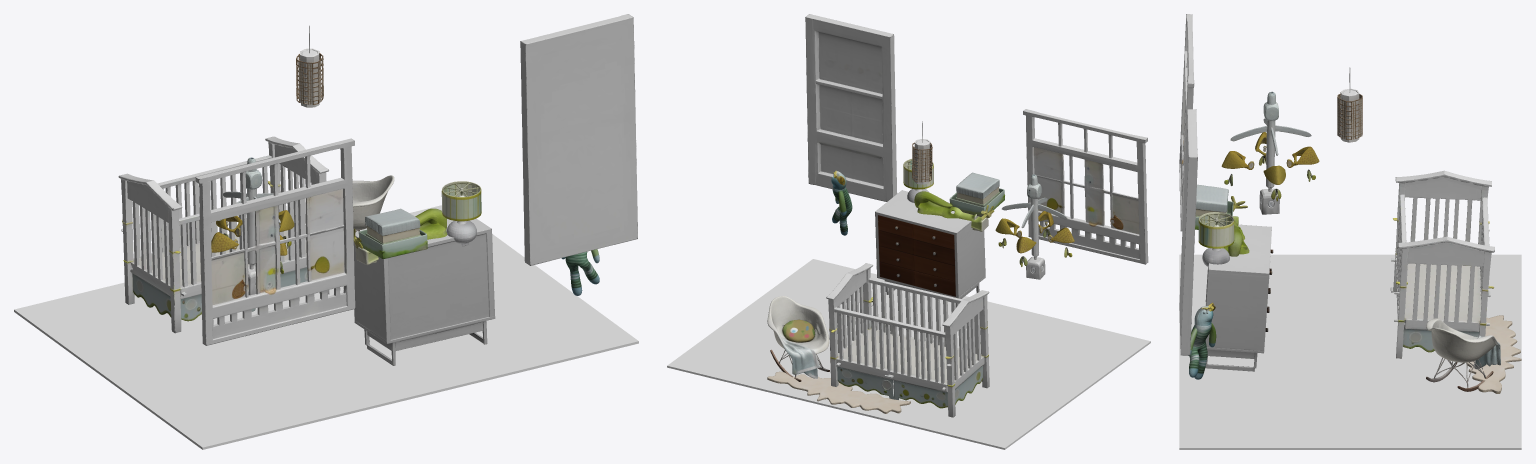
File: stage1.glb
3 renders of one model, left to right at view 1: azimuth 30°, elevation 25°; view 2: azimuth 150°, elevation 25°; view 3: azimuth 270°, elevation 25°, orthographic. The views are drawn at different scales.
Parts seen in each view (by area): view 1: floor, obj_14, obj_9, obj_5, obj_8, obj_15, obj_13, obj_3, obj_4, obj_1, obj_11, obj_7; view 2: floor, obj_5, obj_14, obj_9, obj_8, obj_1, obj_13, obj_2, obj_15, obj_11, obj_4, obj_7 (+1 smaller); view 3: floor, obj_5, obj_8, obj_13, obj_14, obj_1, obj_2, obj_3, obj_9, obj_7, obj_4, obj_15 (+1 smaller).
Boxes of the visible parts, left/top/right/bottom form: floor: left=14, top=205, right=638, bottom=449; obj_14: left=520, top=14, right=637, bottom=265; obj_9: left=195, top=138, right=355, bottom=345; obj_5: left=118, top=136, right=329, bottom=333; obj_8: left=353, top=218, right=495, bottom=365; obj_15: left=358, top=208, right=427, bottom=258; obj_13: left=211, top=157, right=294, bottom=295; obj_3: left=441, top=181, right=481, bottom=246; obj_4: left=296, top=25, right=323, bottom=107; obj_1: left=305, top=175, right=394, bottom=231; obj_11: left=353, top=208, right=447, bottom=265; obj_7: left=561, top=249, right=599, bottom=295; floor: left=667, top=259, right=1150, bottom=449; obj_5: left=826, top=263, right=989, bottom=417; obj_14: left=805, top=14, right=897, bottom=201; obj_9: left=1023, top=109, right=1148, bottom=264; obj_8: left=875, top=190, right=985, bottom=307; obj_1: left=767, top=296, right=829, bottom=381; obj_13: left=995, top=174, right=1074, bottom=279; obj_2: left=767, top=371, right=910, bottom=413; obj_15: left=949, top=172, right=1004, bottom=216; obj_11: left=914, top=191, right=994, bottom=231; obj_4: left=912, top=121, right=932, bottom=184; obj_7: left=831, top=170, right=852, bottom=235; floor: left=1179, top=254, right=1521, bottom=449; obj_5: left=1390, top=170, right=1494, bottom=358; obj_8: left=1205, top=224, right=1273, bottom=371; obj_13: left=1221, top=91, right=1319, bottom=214; obj_14: left=1179, top=109, right=1197, bottom=355; obj_1: left=1426, top=318, right=1500, bottom=391; obj_2: left=1466, top=315, right=1521, bottom=393; obj_3: left=1198, top=212, right=1234, bottom=267; obj_9: left=1179, top=14, right=1194, bottom=231; obj_7: left=1188, top=302, right=1216, bottom=379; obj_4: left=1337, top=67, right=1362, bottom=142; obj_15: left=1195, top=184, right=1233, bottom=229.
Size of the model in its own units: 1.95 by 1.38 by 1.46.
Materials: 12 (12 with a texture image).
